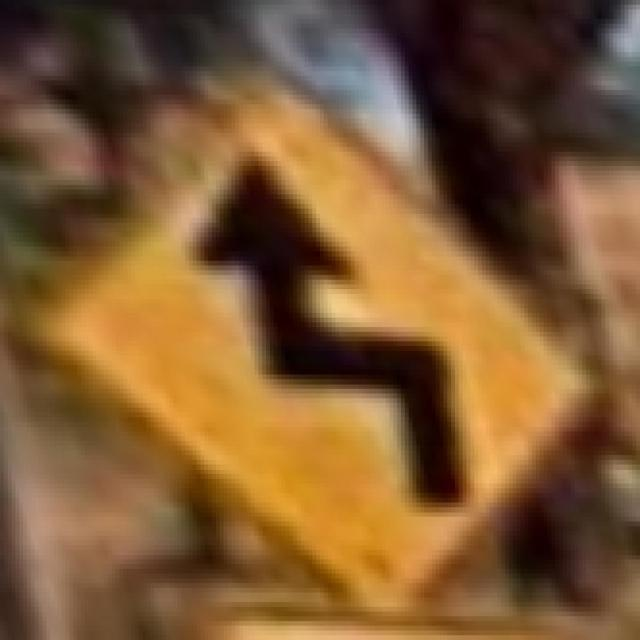Tikungan Ganda Pertama Ke Kiri: (35, 66, 590, 612)
